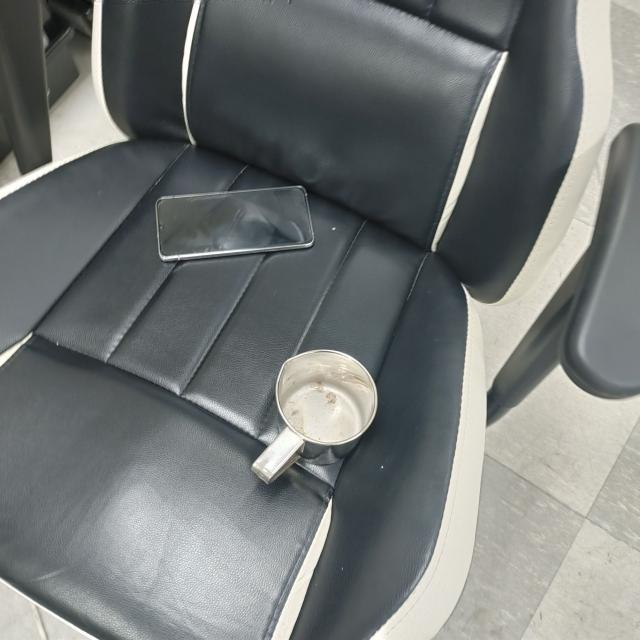cup: (252, 348, 379, 490)
phone: (154, 185, 314, 262)
